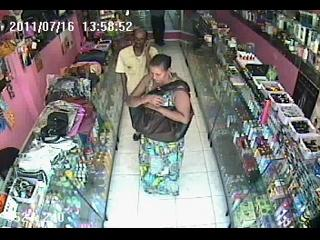Normal: (126, 54, 194, 197), (114, 28, 158, 97), (149, 10, 166, 46), (75, 50, 109, 65)
